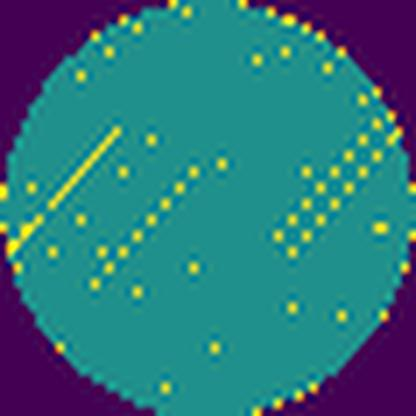Scratch: (269, 116, 394, 264), (9, 117, 129, 256), (88, 160, 202, 294)
